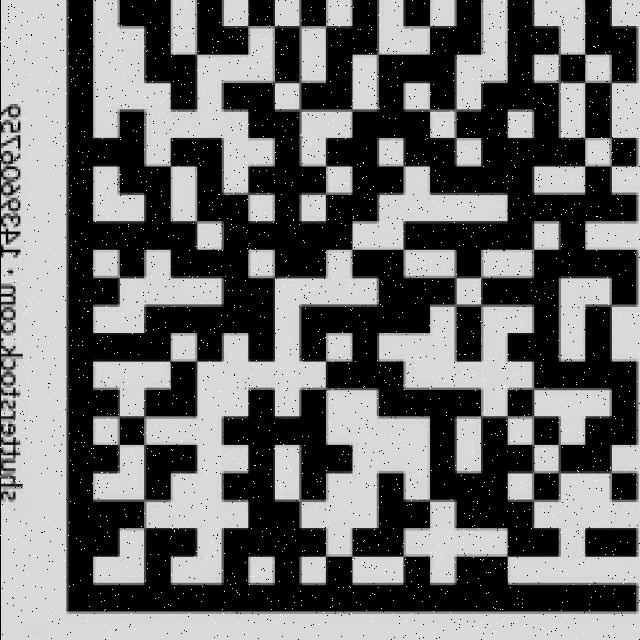datamatrix: (63, 0, 640, 617)
